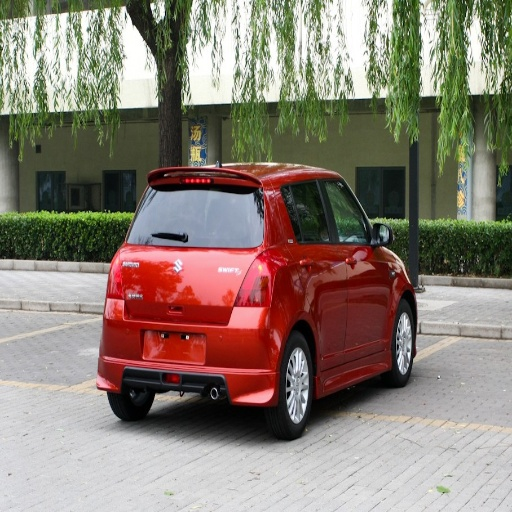back_bumper: (98, 306, 287, 402)
back_right_door: (283, 175, 347, 374)
trunk: (110, 239, 257, 334)
